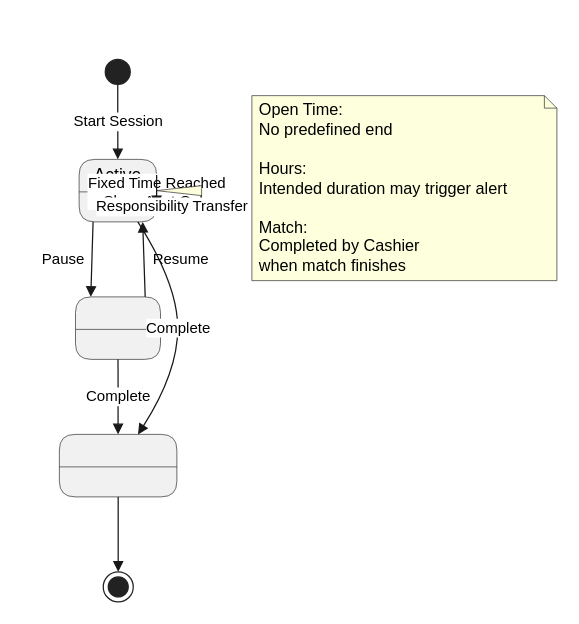
The diagram is 579 pixels wide and 624 high, and some of its shapes have lost their labels. The box of each missing label's shape, as (x1, y1, x2, y2) in pixels:
Completed: (58, 434, 177, 497)
Paused: (75, 296, 160, 359)
